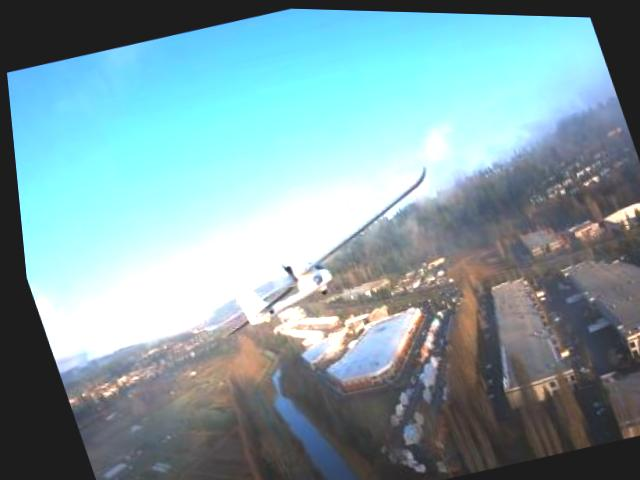uav: (149, 145, 477, 366)
